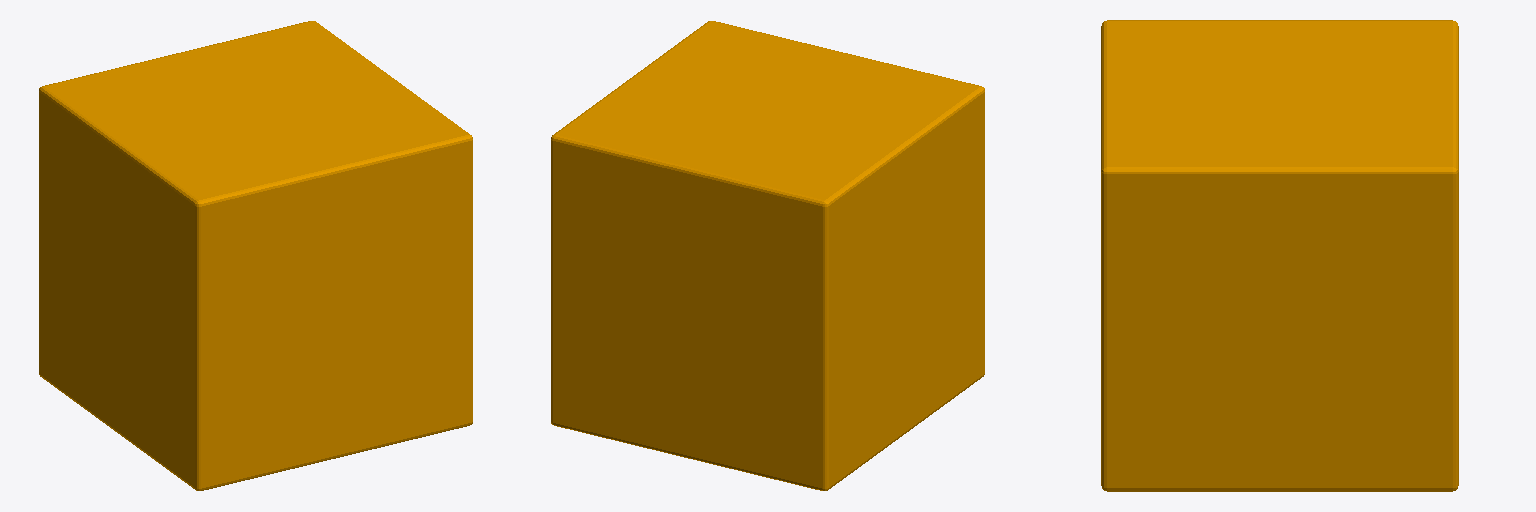
URDF robot description (wooden_block_10):
<?xml version="1.0" ?>
<robot name="wooden_block_10">
  <link name="base_link">
    <inertial>
      <origin xyz="0 0 0.05" rpy="0 0 0"/>
      <mass value="0.492"/>
      <inertia ixx="0.00082" ixy="0" ixz="0" iyy="0.00082" iyz="0" izz="0.00082"/>
    </inertial>
    <visual name="visual">
      <origin xyz="0 0 0" rpy="0 0 0"/>
      <geometry>
        <mesh filename="meshes/visual.obj" scale="1 1 1"/>
      </geometry>
    </visual>
    <collision name="box">
      <origin xyz="0 0 0" rpy="0 0 0"/>
      <geometry>
        <mesh filename="meshes/collision/box.obj" scale="1 1 1"/>
      </geometry>
    </collision>
  </link>
</robot>

--- Facts derived from the render (not from the file) ---
Views: 3 orthographic renders of the robot side by side, from view 1: azimuth 30°, elevation 25°; view 2: azimuth 150°, elevation 25°; view 3: azimuth 270°, elevation 25°.
Model wooden_block_10 with 1 links and 0 joints (none), rooted at base_link, posed every joint at zero.
Links seen in each view (by area): view 1: base_link; view 2: base_link; view 3: base_link.
Link boxes in pixels (x1=…): base_link: x1=39, y1=21, x2=472, y2=490; base_link: x1=551, y1=21, x2=984, y2=490; base_link: x1=1101, y1=20, x2=1458, y2=491.
Bounding box of the posed robot: 0.1 × 0.1 × 0.1 m (x, y, z).
Meshes: 1 distinct files referenced, 1 mesh visuals loaded (1 OBJ).
